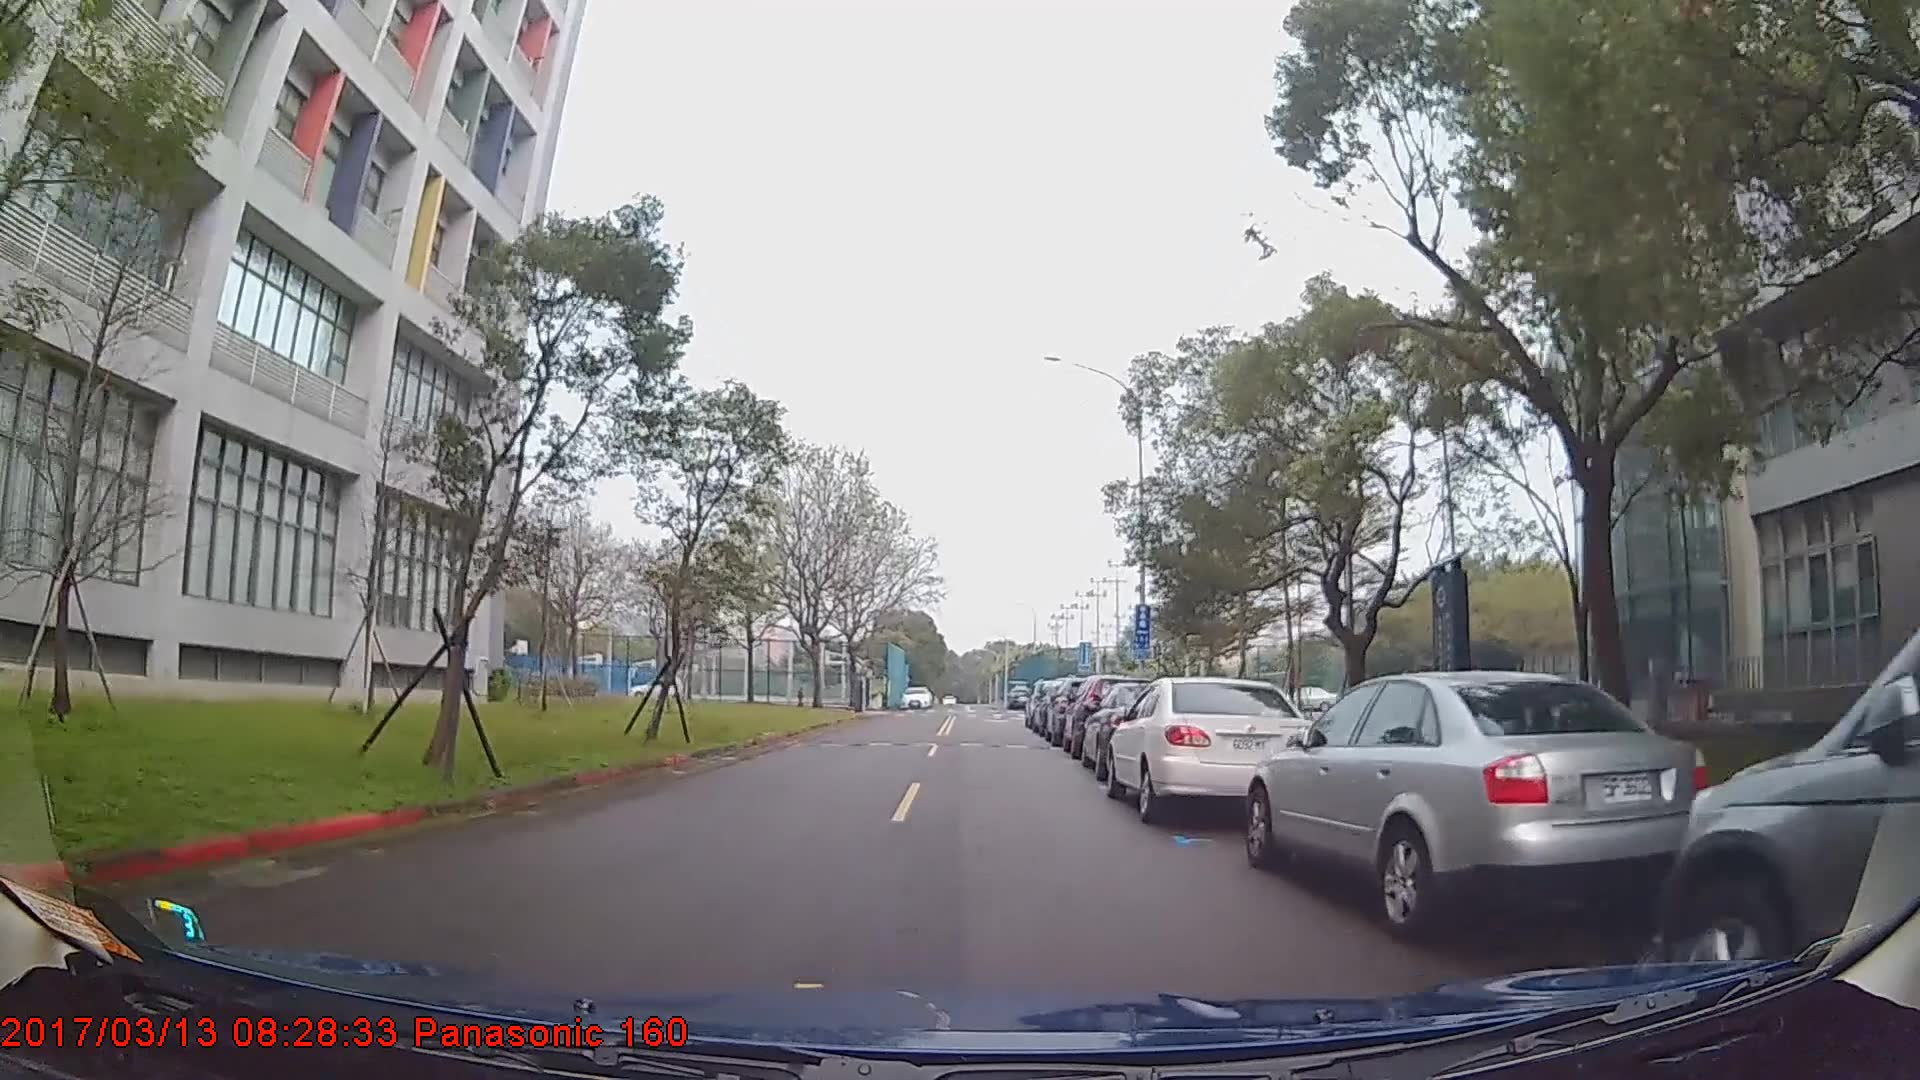vehicle: (1244, 669, 1709, 942), (1662, 626, 1920, 1001), (1104, 675, 1319, 825), (899, 684, 931, 705)
